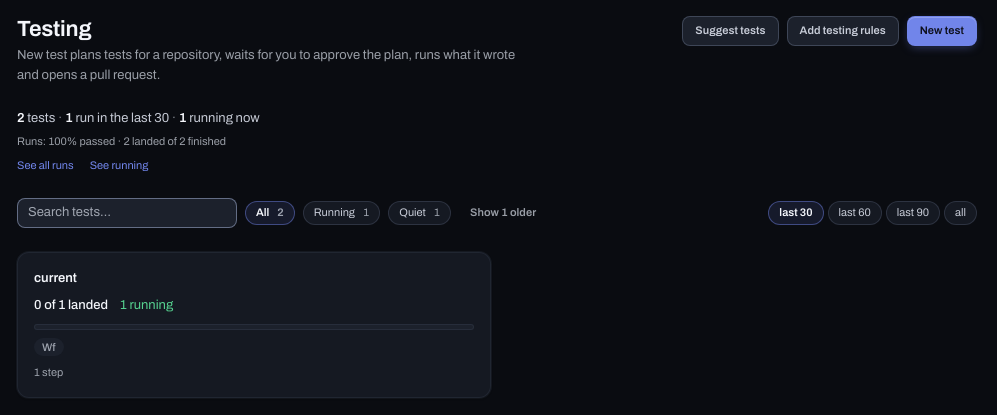
Test: the filterable grid — search / status / window › a campaign with NO member run in the window hides behind an honest "+N older · show all" chip
Check: the number of links with test id "campaign-card" is 1, box [17,252,491,398]
Click the button with test id "campaigns-show-older": (503, 213) [459,201,547,225]
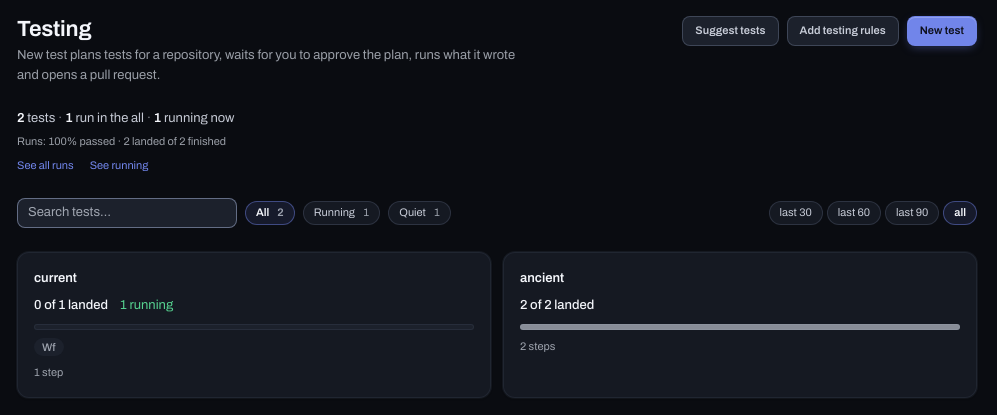
Check: the number of links with test id "campaign-card" is 2, box [17,252,491,398]; [503,252,977,398]
